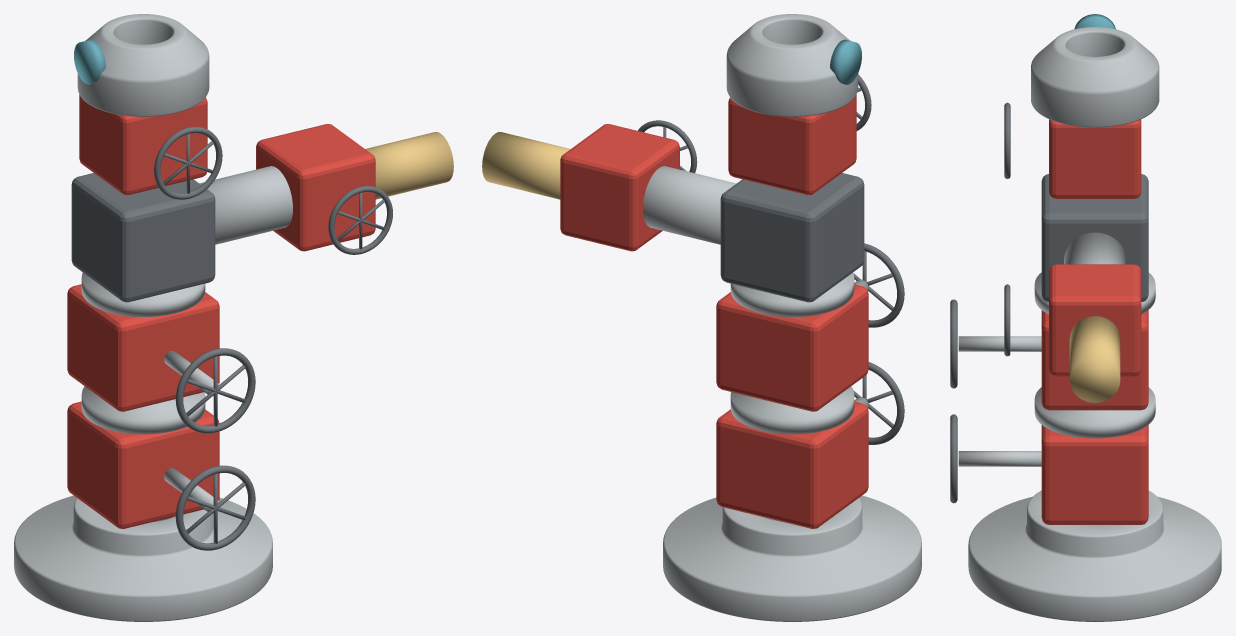
File: christmas-tree.glb
The picture shows the model from 3 angles, left to right: view 1: azimuth 30°, elevation 25°; view 2: azimuth 150°, elevation 25°; view 3: azimuth 270°, elevation 25°; orthographic projection. The views are drawn at different scales.
Parts seen in each view (by area): view 1: Tubing head adapter, Cross, Master valve 1, Master valve 0, Tree cap, Wing valve, Swab valve, Wing, Choke, Master flange 0, Master flange 1, Master 1 wheel (+6 smaller); view 2: Tubing head adapter, Cross, Master valve 1, Master valve 0, Wing valve, Tree cap, Swab valve, Wing, Choke, Master flange 0, Master flange 1, Pressure gauge (+2 smaller); view 3: Tubing head adapter, Tree cap, Master valve 0, Wing valve, Swab valve, Cross, Choke, Master valve 1, Master flange 0, Wing, Master stem 0, Master stem 1 (+6 smaller).
Part boxes in pixels (box(x1,y1,x2,y2)): Tubing head adapter: box(14, 495, 272, 621); Cross: box(71, 173, 215, 302); Master valve 1: box(67, 284, 219, 411); Master valve 0: box(67, 401, 219, 528); Tree cap: box(77, 14, 209, 116); Wing valve: box(256, 124, 375, 251); Swab valve: box(79, 94, 207, 195); Wing: box(199, 166, 292, 244); Choke: box(365, 132, 453, 199); Master flange 0: box(81, 386, 205, 434); Master flange 1: box(81, 272, 205, 316); Master 1 wheel: box(175, 348, 255, 433); Tubing head adapter: box(663, 495, 921, 621); Cross: box(720, 173, 864, 302); Master valve 1: box(716, 284, 868, 411); Master valve 0: box(716, 401, 868, 528); Wing valve: box(560, 124, 679, 251); Tree cap: box(726, 14, 858, 116); Swab valve: box(728, 94, 856, 195); Wing: box(643, 166, 736, 244); Choke: box(482, 132, 570, 199); Master flange 0: box(730, 386, 854, 434); Master flange 1: box(730, 272, 854, 316); Pressure gauge: box(830, 39, 861, 84); Tubing head adapter: box(968, 490, 1221, 621); Tree cap: box(1031, 27, 1159, 127); Master valve 0: box(1041, 425, 1148, 524); Wing valve: box(1049, 264, 1141, 376); Swab valve: box(1049, 119, 1141, 198); Cross: box(1041, 174, 1148, 301); Choke: box(1069, 316, 1120, 402); Master valve 1: box(1041, 310, 1148, 410); Master flange 0: box(1034, 387, 1155, 438); Wing: box(1064, 232, 1126, 264); Master stem 0: box(958, 451, 1041, 466); Master stem 1: box(958, 336, 1041, 351).
Size of the model in its own units: 4.75 by 5.97 by 2.79.
